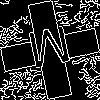M: (25, 25, 76, 79)
